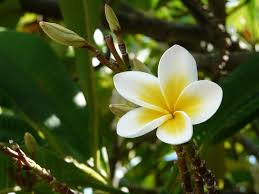frangipani: (114, 43, 225, 145)
